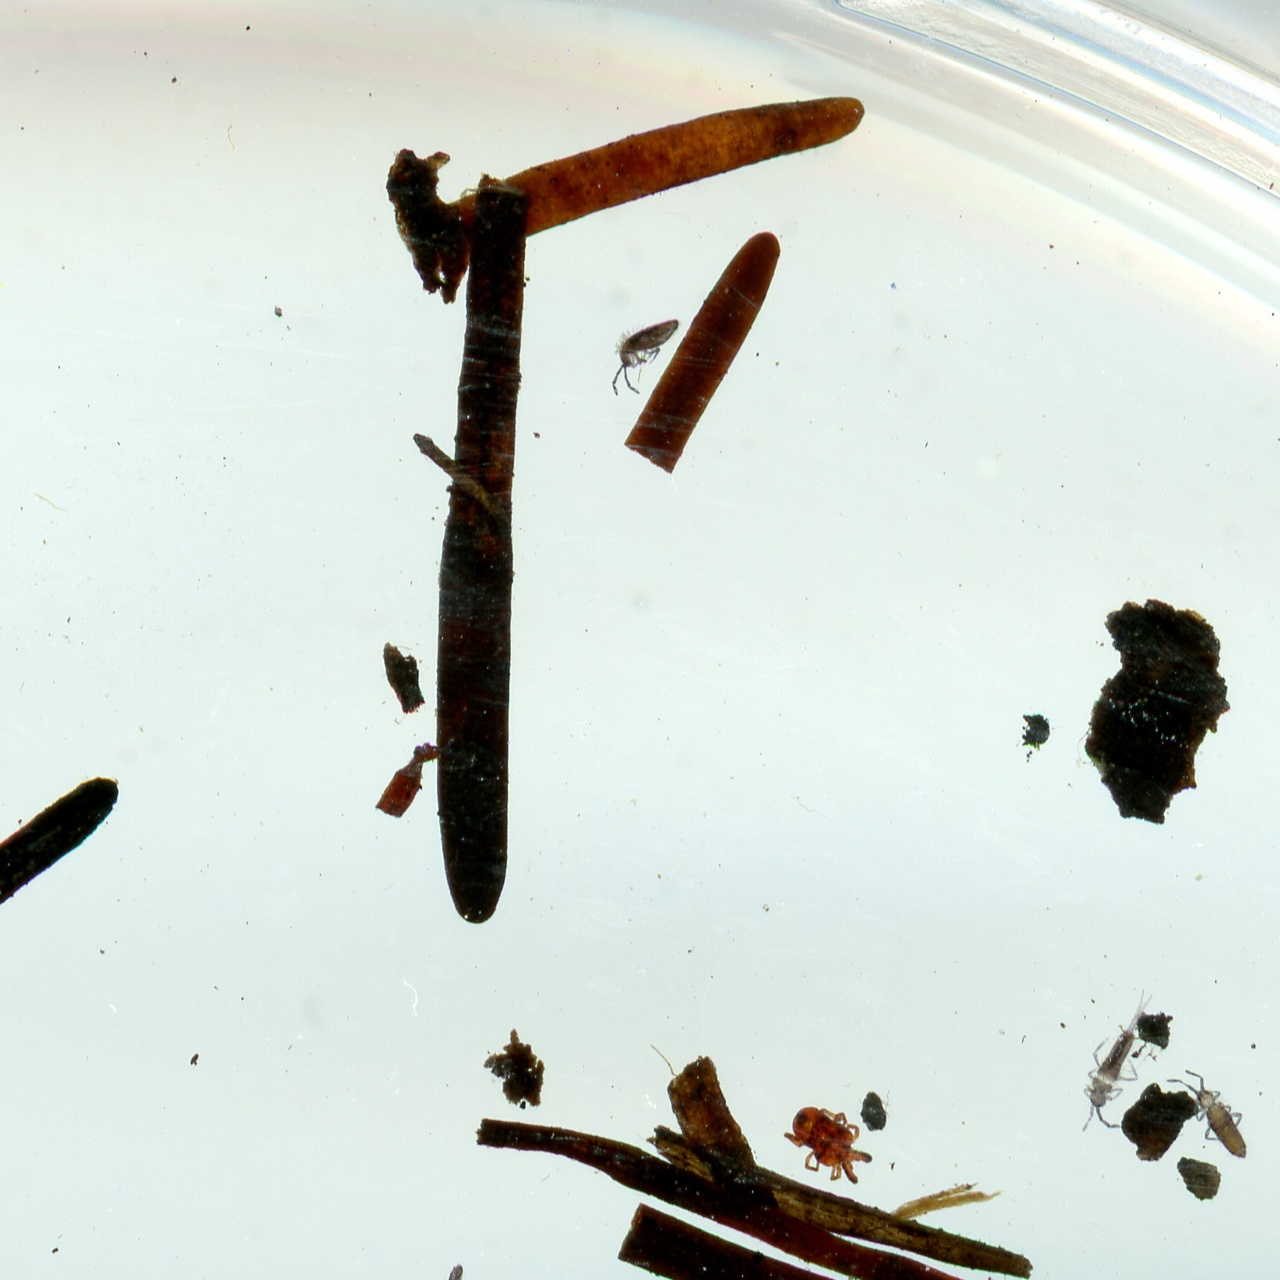arthropod: (1067, 971, 1170, 1145), (1157, 1047, 1265, 1184), (586, 290, 692, 415), (782, 1096, 879, 1190), (403, 1252, 470, 1280)
